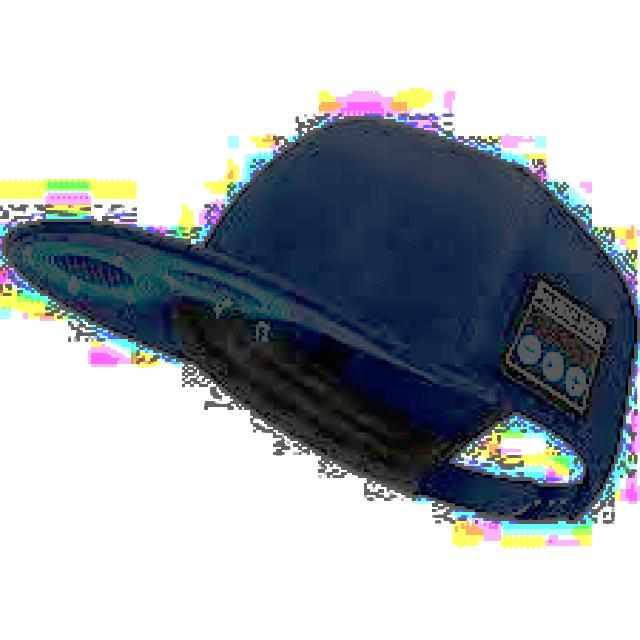TOPI: (0, 106, 637, 524)
